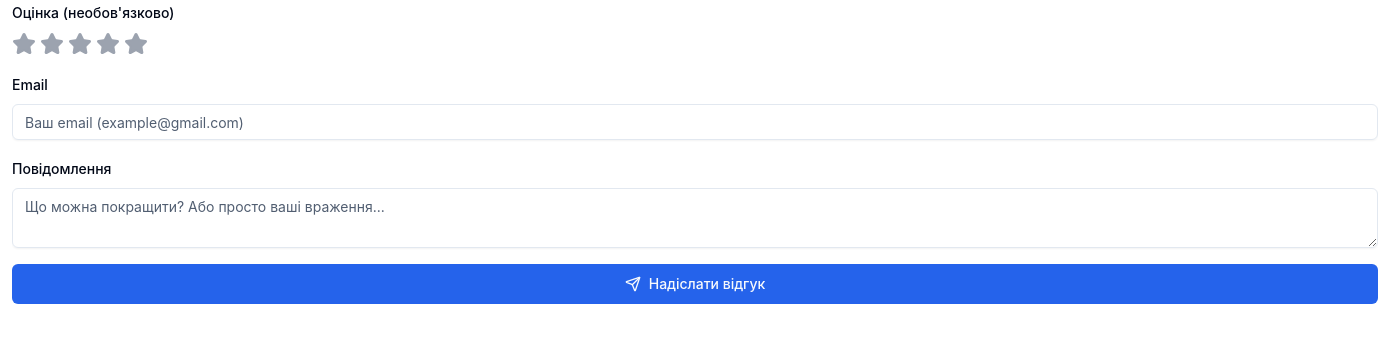
Scenario: FeedbackForm › shows validation errors for invalid email
In the text box with placeholder "Що можна покращити? Або просто ваші враження...": (695, 218) [12,188,1378,248], type "Valid message with enough characters"
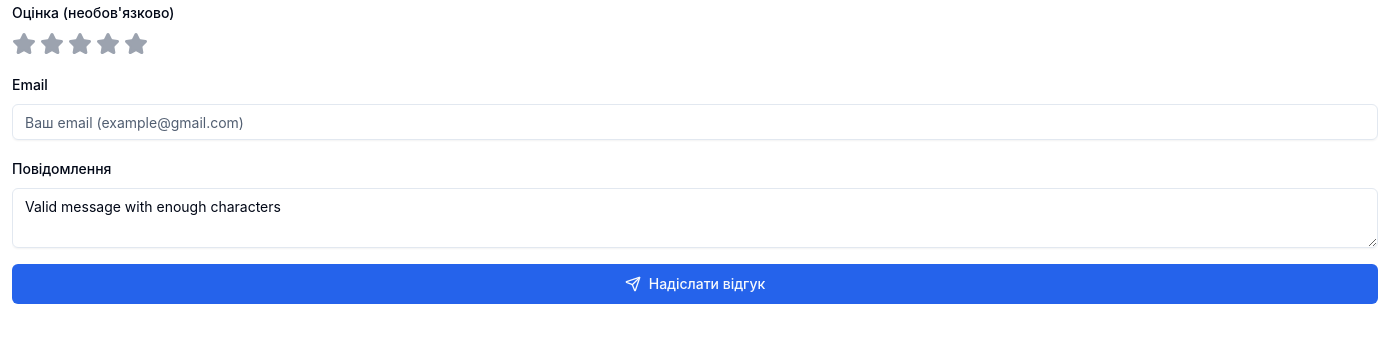
In the field with placeholder "Ваш email (example@gmail.com)": (695, 122) [12,104,1378,140], type "invalid-email"
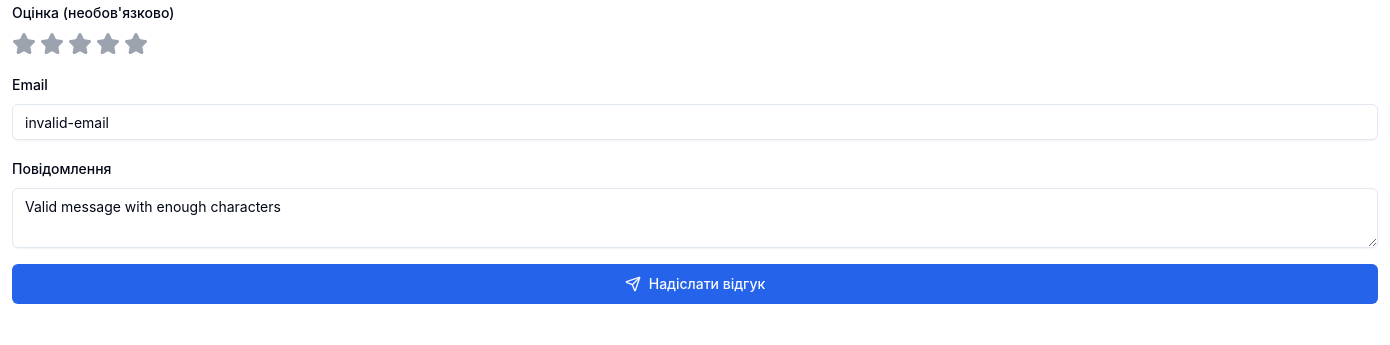
Leave the field with placeholder "Ваш email (example@gmail.com)", box [12,104,1378,140]
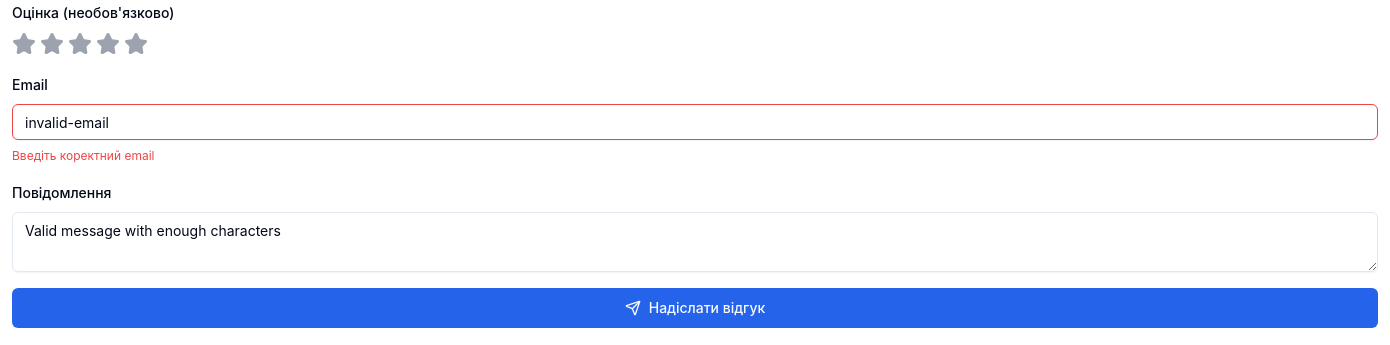
Now the text "Введіть коректний email" is shown, box [12,148,154,163]
